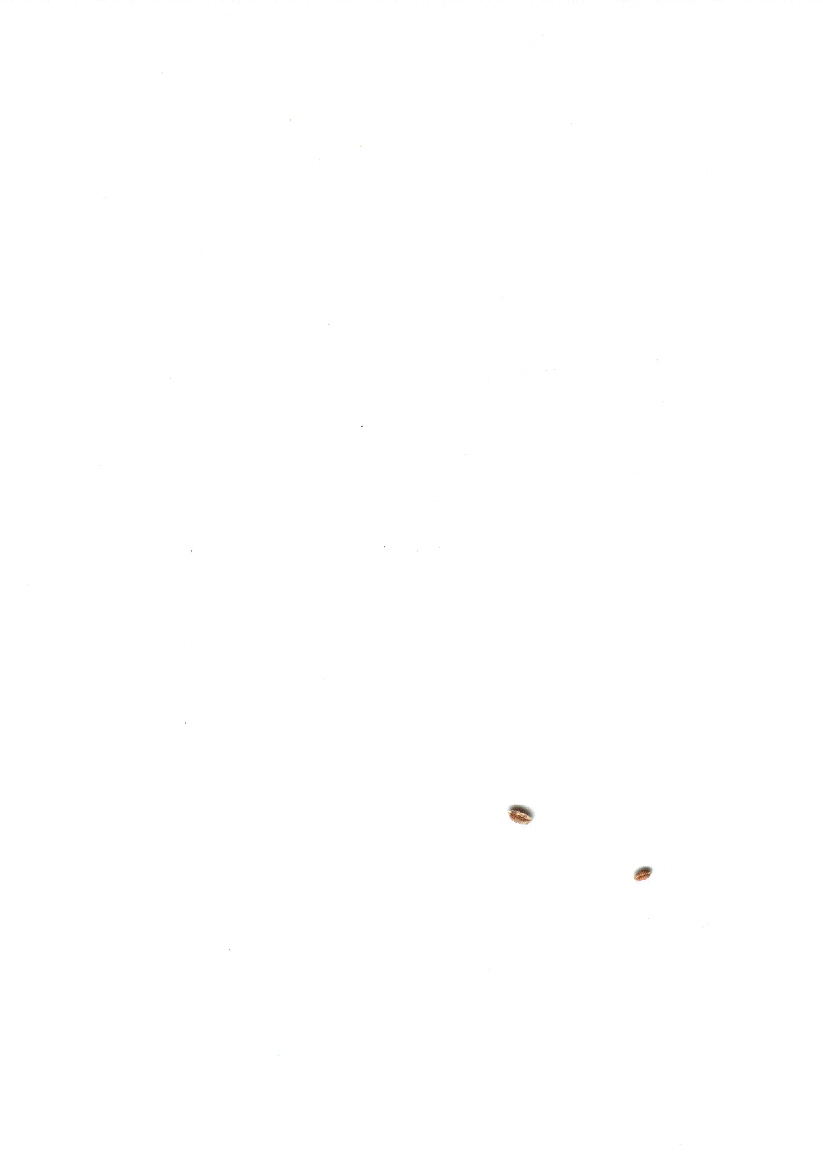grains: (497, 795, 540, 833), (624, 850, 657, 898)
